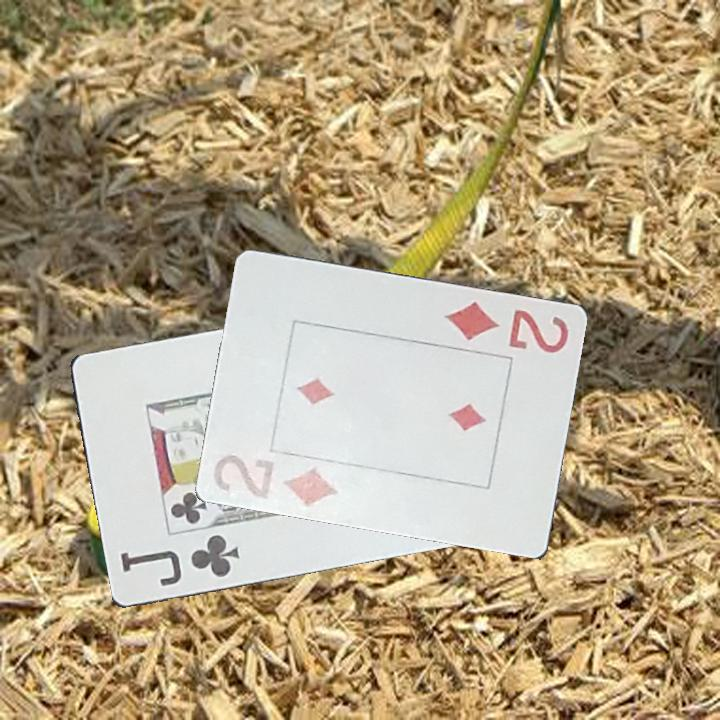2d: (210, 450, 343, 511), (441, 297, 573, 356)
Jc: (116, 531, 242, 590)
